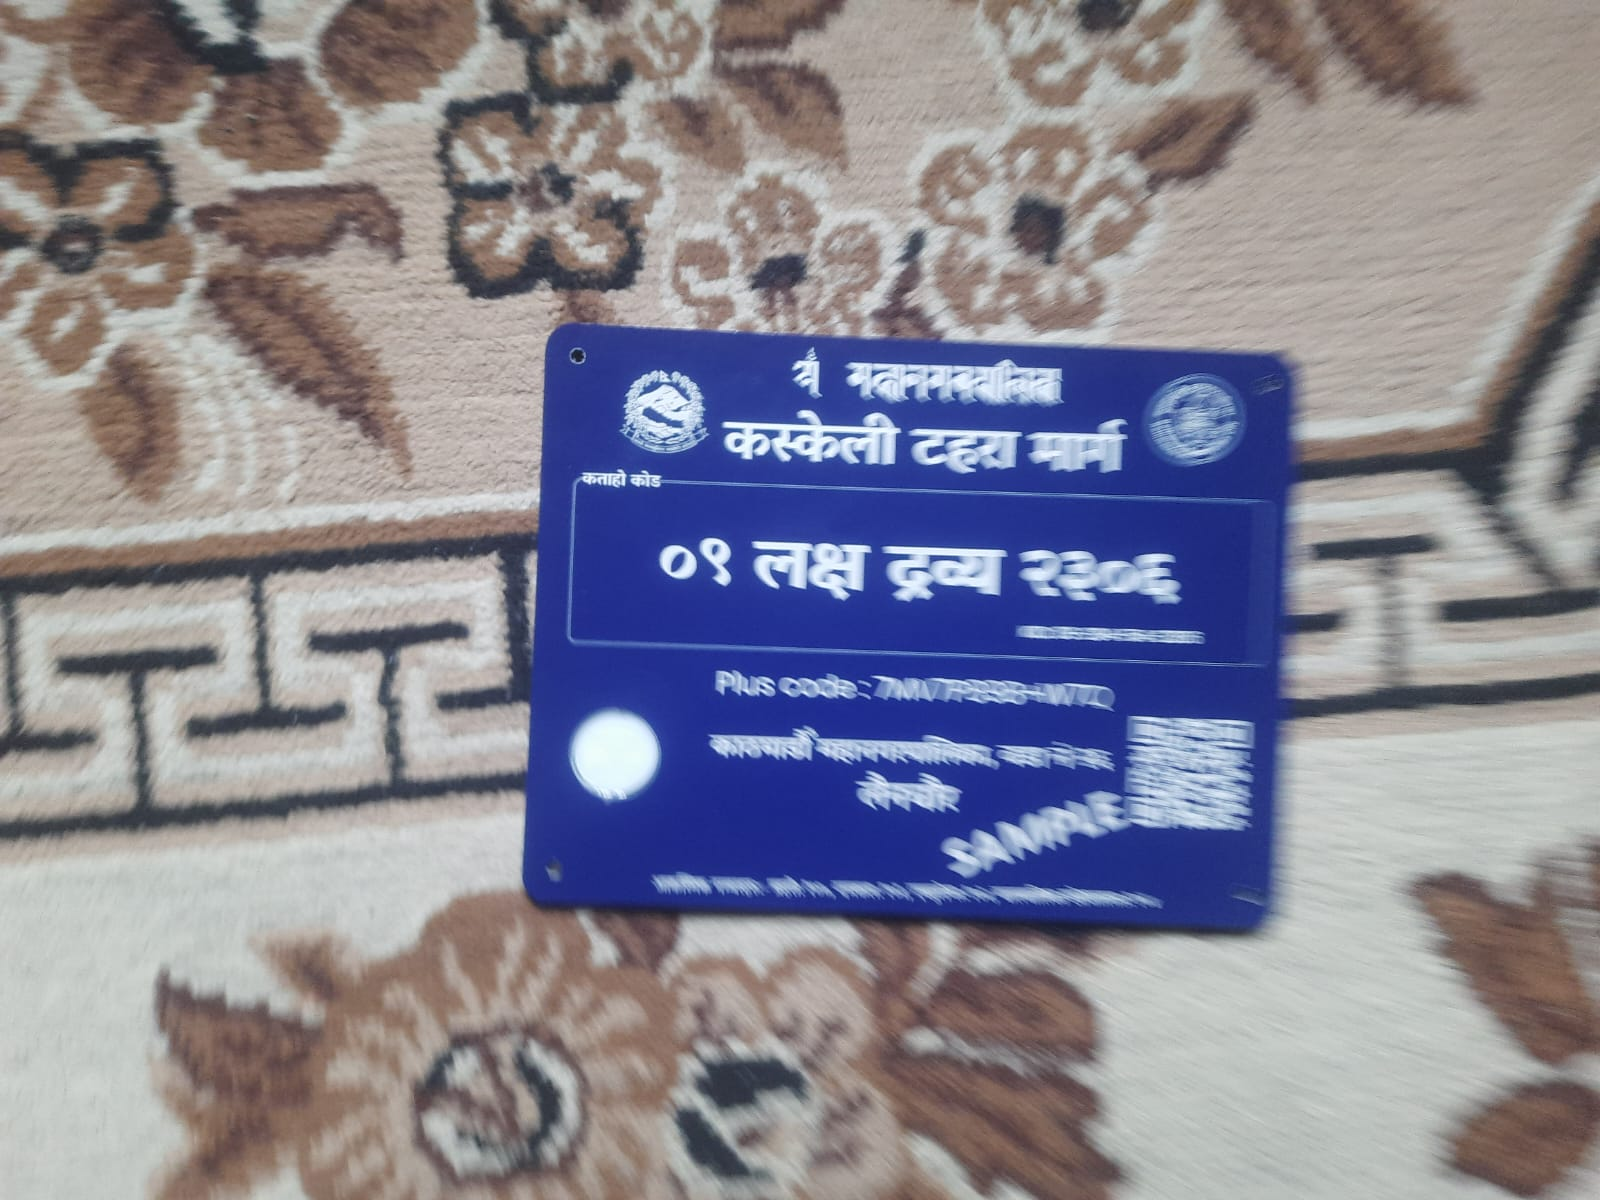Plate: (517, 306, 1294, 948)
